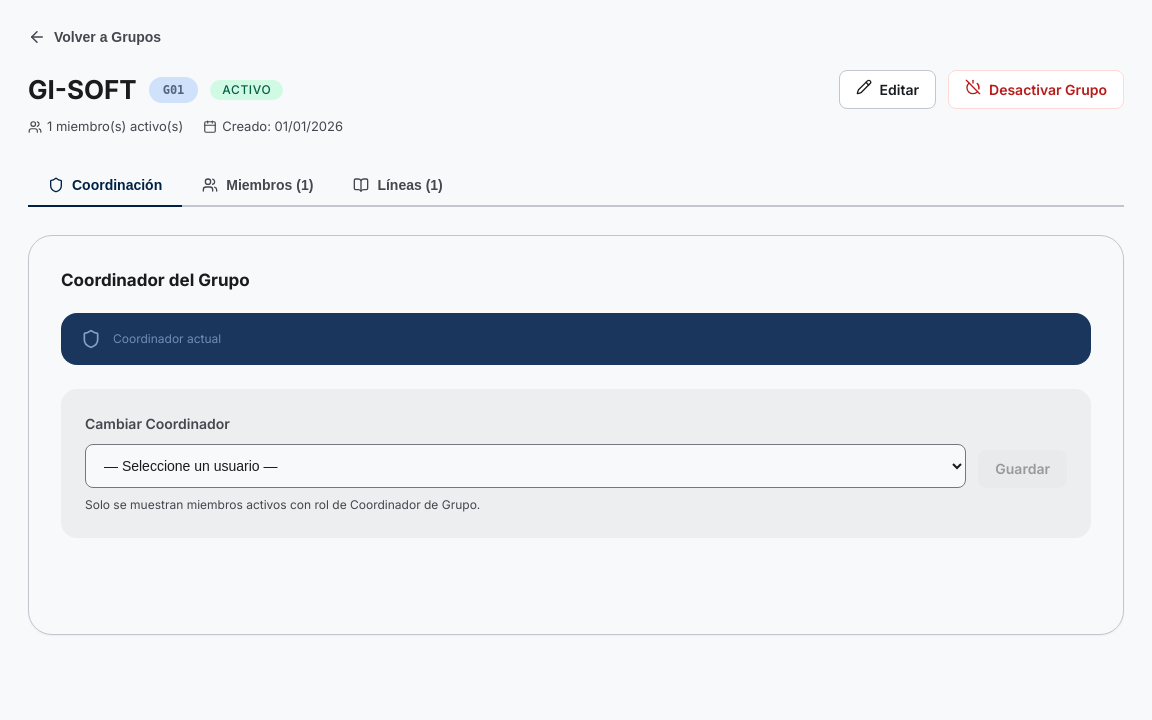
Scenario: ResearchGroupDetail page › renders lines list in the lines tab
Check: the heading "GI-SOFT" is shown, box [28,70,137,109]
Click the button "Líneas (1)".
click(398, 186)  # box [333,164,463,206]
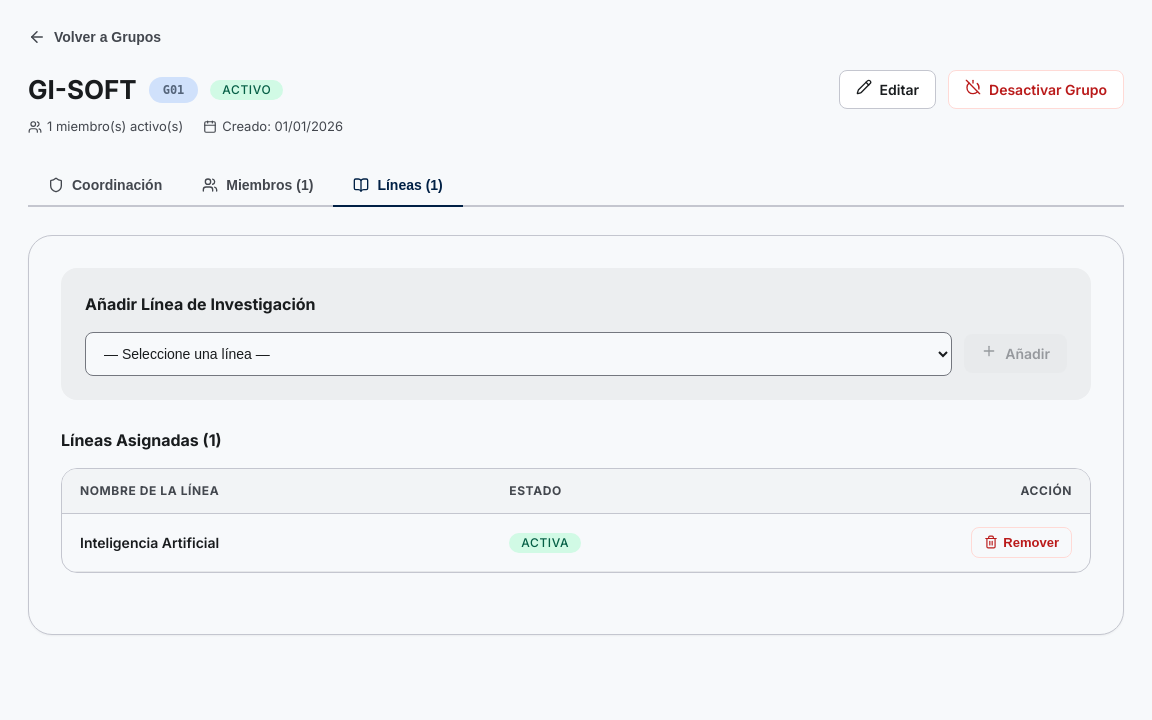
Check: the text "Inteligencia Artificial" is shown, box [62,513,491,571]
